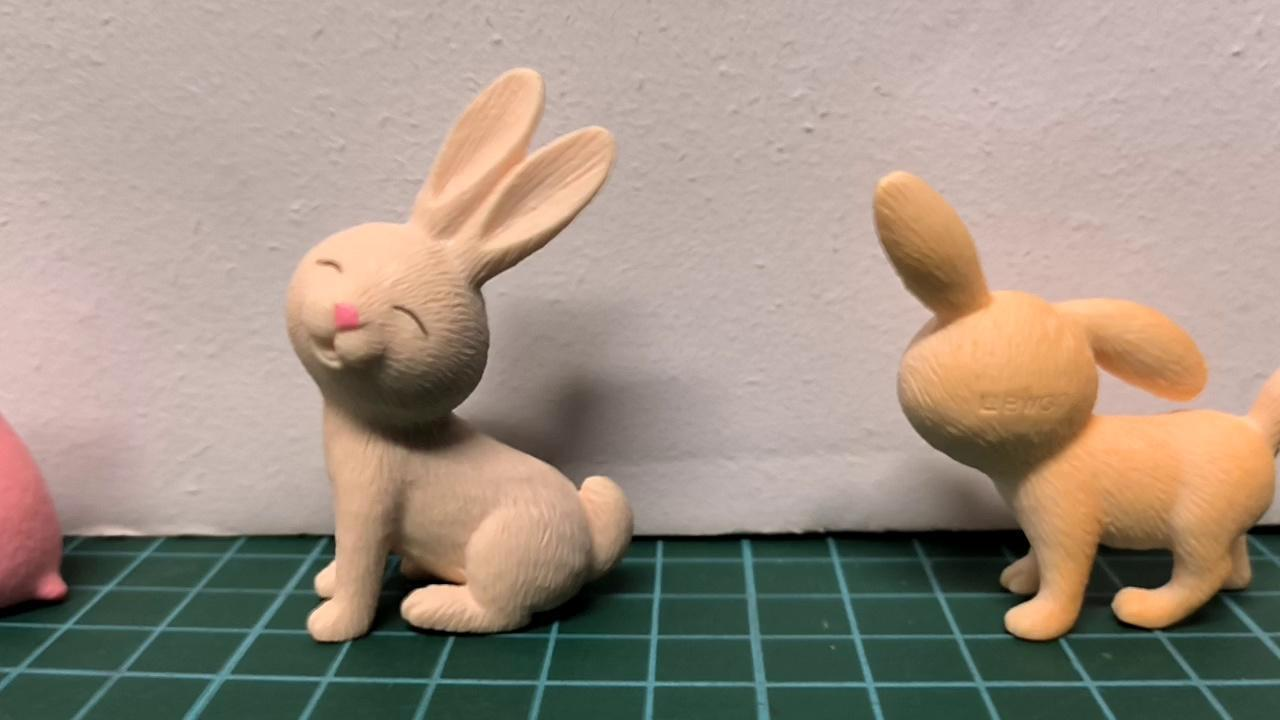pet: (285, 65, 634, 645), (875, 170, 1280, 642), (0, 407, 68, 611)
